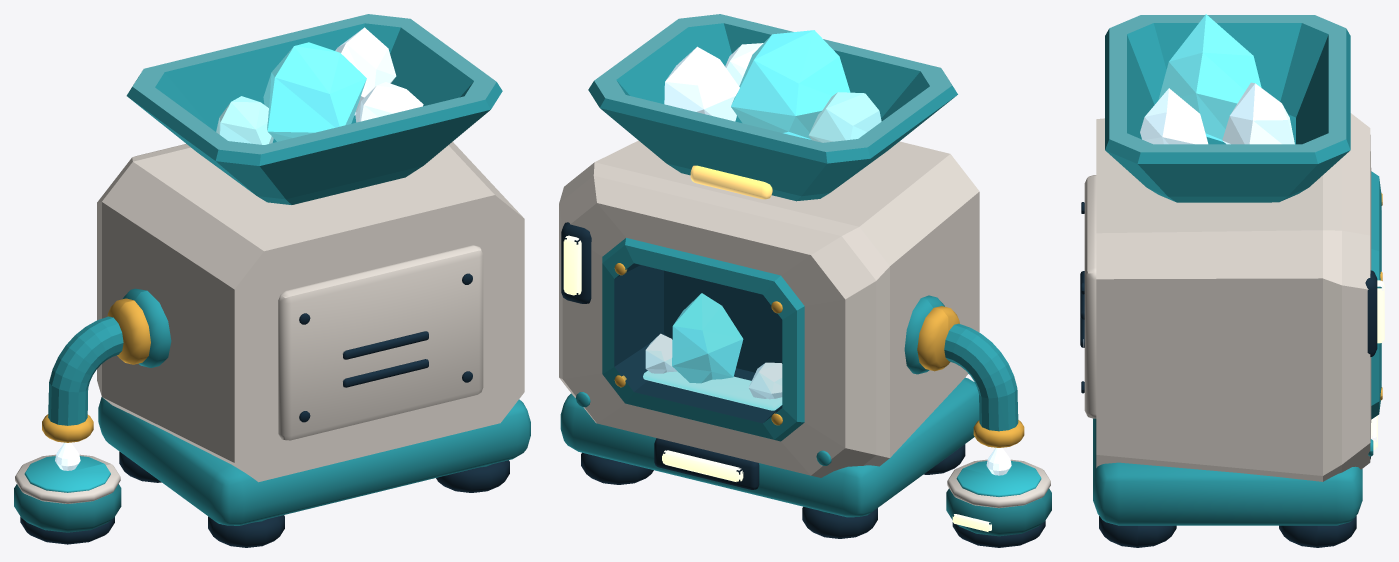
The model's file is procesador_hielo.glb.
The picture shows the model from 3 angles, left to right: view 1: azimuth 30°, elevation 25°; view 2: azimuth 150°, elevation 25°; view 3: azimuth 270°, elevation 25°; orthographic projection. The views are drawn at different scales.
Parts seen in each view (by area): view 1: CarcasaConAbertura, TapaTrasera, Tolva, Zocalo, LabioTolva, CargaCentral, CodoSalida, Colector, Agua, CargaFrontal, CargaLateral, AcopleAmbar (+9 smaller); view 2: CarcasaConAbertura, Tolva, CristalCamara, Zocalo, CamaraHundida, MarcoOctogonal, CargaCentral, LabioTolva, HieloInterior, CodoSalida, CargaFrontal, CargaLateral (+18 smaller); view 3: CarcasaConAbertura, Tolva, Zocalo, LabioTolva, CargaCentral, TapaTrasera, CargaFrontal, CargaTrasera, MarcoOctogonal, Apoyo3, Apoyo4, SelloEstado (+1 smaller).
Boxes of the visible parts, left/top/right/bottom form: CarcasaConAbertura: left=97, top=141, right=524, bottom=482; TapaTrasera: left=278, top=245, right=483, bottom=440; Tolva: left=126, top=23, right=502, bottom=204; Zocalo: left=98, top=397, right=530, bottom=525; LabioTolva: left=132, top=14, right=496, bottom=154; CargaCentral: left=263, top=42, right=366, bottom=141; CodoSalida: left=48, top=316, right=123, bottom=425; Colector: left=14, top=484, right=121, bottom=532; Agua: left=24, top=456, right=110, bottom=492; CargaFrontal: left=335, top=27, right=396, bottom=115; CargaLateral: left=216, top=96, right=273, bottom=144; AcopleAmbar: left=107, top=298, right=150, bottom=364; CarcasaConAbertura: left=559, top=140, right=979, bottom=477; Tolva: left=588, top=23, right=957, bottom=201; CristalCamara: left=614, top=263, right=781, bottom=422; Zocalo: left=560, top=377, right=979, bottom=517; CamaraHundida: left=614, top=263, right=782, bottom=423; MarcoOctogonal: left=602, top=238, right=804, bottom=441; CargaCentral: left=731, top=30, right=850, bottom=139; LabioTolva: left=594, top=14, right=951, bottom=151; HieloInterior: left=672, top=293, right=743, bottom=383; CodoSalida: left=944, top=323, right=1018, bottom=431; CargaFrontal: left=664, top=46, right=739, bottom=121; CargaLateral: left=808, top=92, right=881, bottom=142; CarcasaConAbertura: left=1096, top=113, right=1371, bottom=481; Tolva: left=1105, top=23, right=1350, bottom=202; Zocalo: left=1093, top=418, right=1362, bottom=525; LabioTolva: left=1109, top=15, right=1346, bottom=152; CargaCentral: left=1158, top=14, right=1261, bottom=141; TapaTrasera: left=1084, top=175, right=1096, bottom=418; CargaFrontal: left=1222, top=82, right=1294, bottom=144; CargaTrasera: left=1140, top=88, right=1208, bottom=144; MarcoOctogonal: left=1371, top=171, right=1381, bottom=419; Apoyo3: left=1279, top=516, right=1356, bottom=547; Apoyo4: left=1099, top=516, right=1176, bottom=547; SelloEstado: left=1365, top=270, right=1377, bottom=356.
Size of the model in its own units: 3.04 by 2.87 by 1.76.
